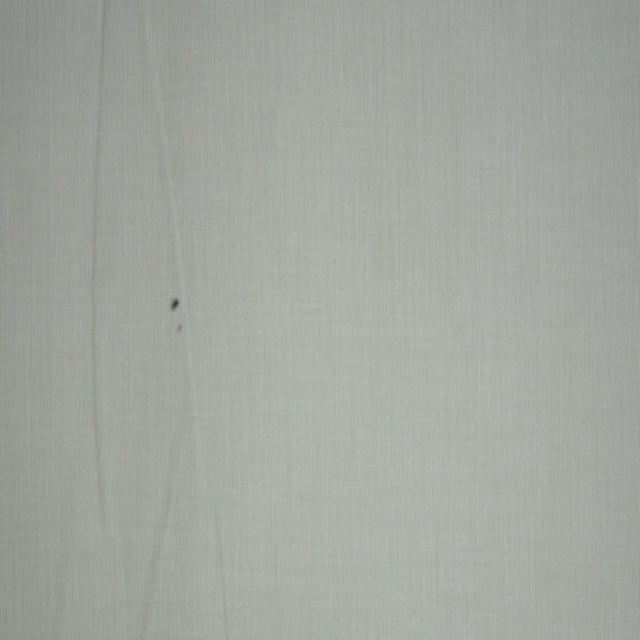dirty: (171, 298, 179, 310)
